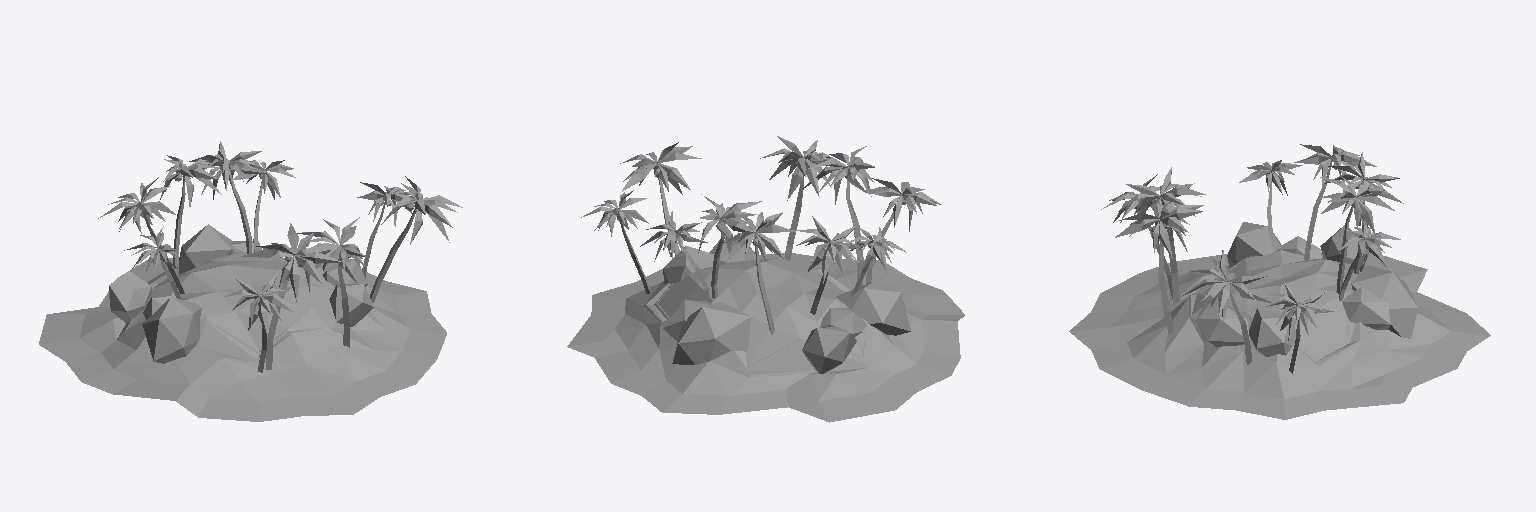
Rendered from Island.obj.
The picture shows the model from 3 angles: view 1: azimuth 30°, elevation 25°; view 2: azimuth 150°, elevation 25°; view 3: azimuth 270°, elevation 25°; orthographic projection.
Parts seen in each view (by area): view 1: Island; view 2: Island; view 3: Island.
Boxes of the visible parts, <box> form: Island: <box>39,141,462,421</box>; Island: <box>567,136,964,422</box>; Island: <box>1069,144,1490,419</box>.
Bounding box in the file's own units: 104 × 44.33 × 107.